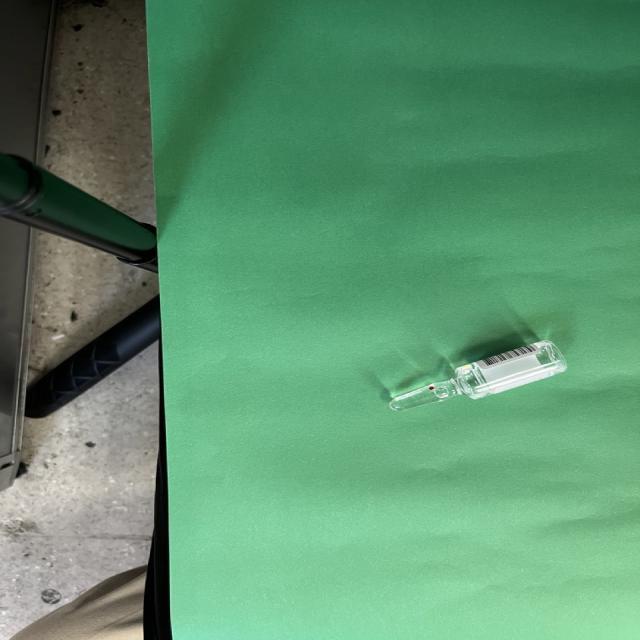Ampoules: (388, 340, 567, 410)
